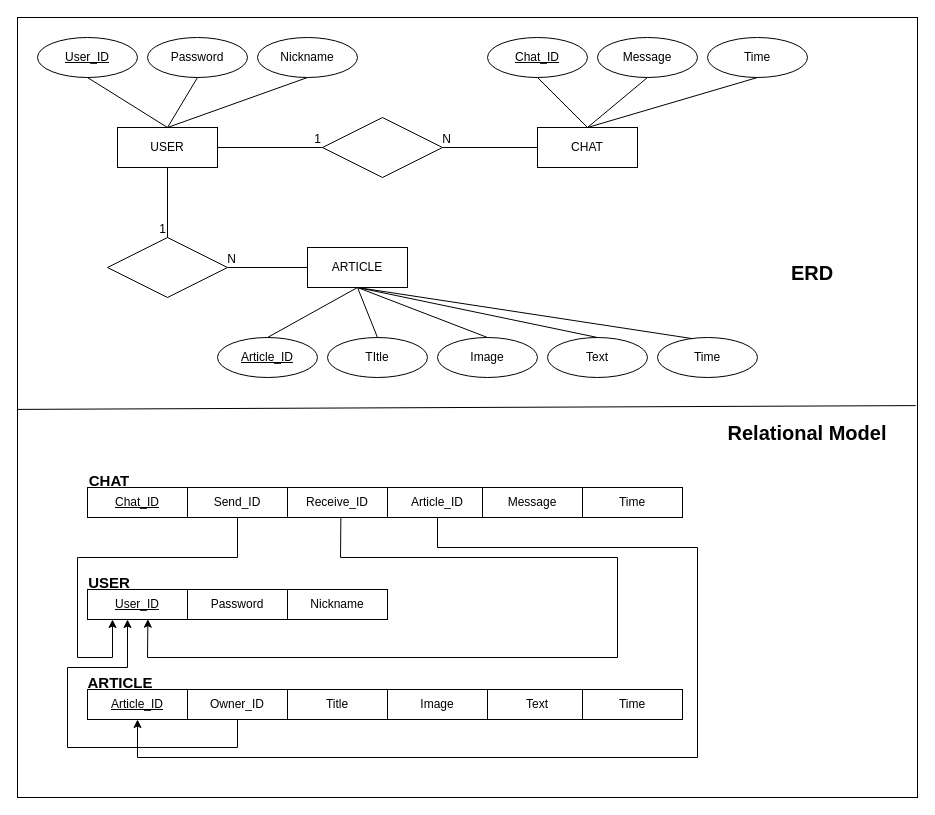
Image size: 935x815. Some labels were removed from this diagram. The centre of each missing label's shape, as x and y in pixels:
"POST" belongs at [167,267].
"SEND" belongs at [382,147].
